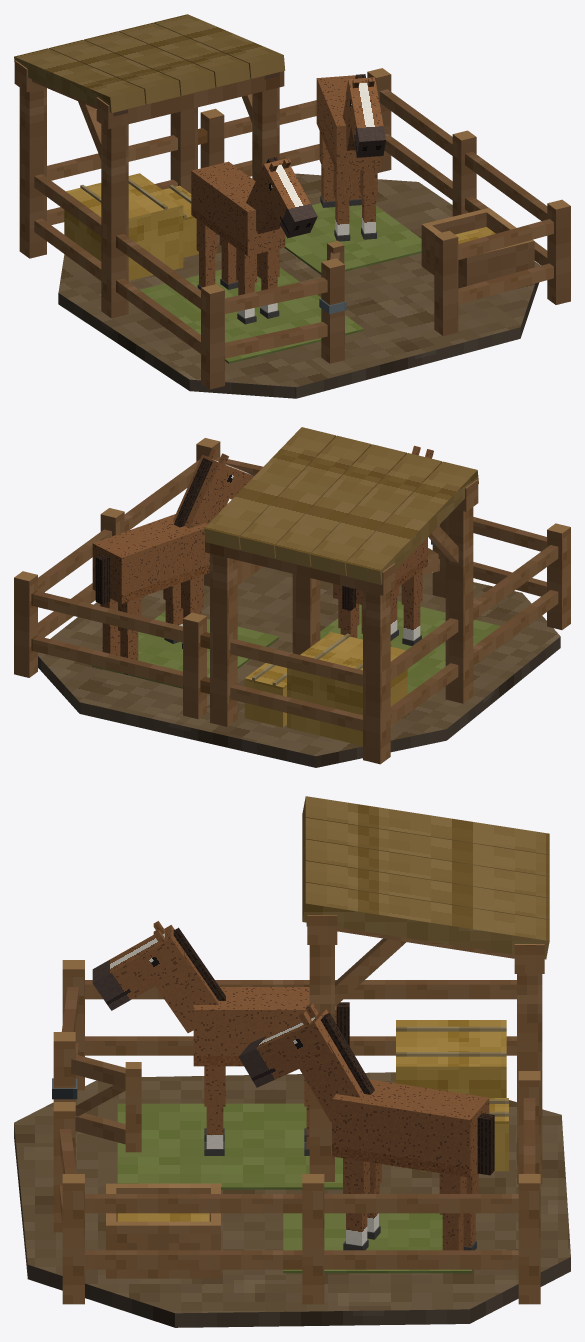
Rendered from horse_ranch_v1.glb.
3 renders of one model, top to bottom at view 1: azimuth 30°, elevation 25°; view 2: azimuth 150°, elevation 25°; view 3: azimuth 270°, elevation 25°, orthographic. The views are drawn at different scales.
Parts seen in each view (by area): view 1: horse_ranch_v1_Paddock_and_Horses; view 2: horse_ranch_v1_Paddock_and_Horses; view 3: horse_ranch_v1_Paddock_and_Horses.
Part boxes in pixels (x1=…): horse_ranch_v1_Paddock_and_Horses: x1=14, y1=14, x2=570, y2=398; horse_ranch_v1_Paddock_and_Horses: x1=14, y1=427, x2=570, y2=767; horse_ranch_v1_Paddock_and_Horses: x1=14, y1=796, x2=570, y2=1327.
Bounding box in the file's own units: 1.24 × 0.7122 × 1.21.
1 material, 1 textured.
